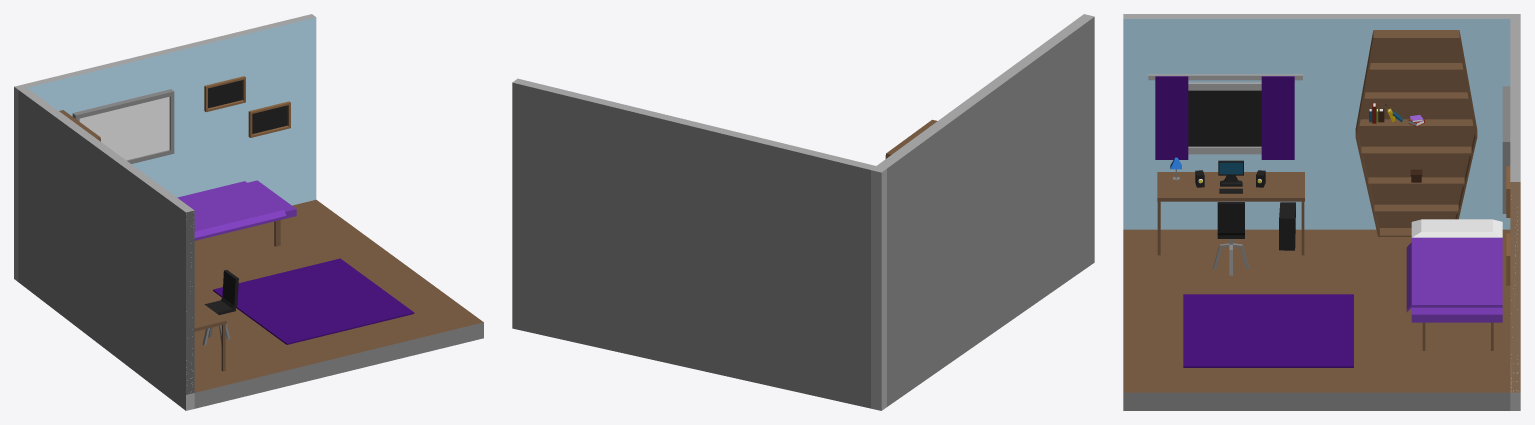
Rendered from Room_005.glb.
3 renders of one model, left to right at view 1: azimuth 30°, elevation 25°; view 2: azimuth 150°, elevation 25°; view 3: azimuth 270°, elevation 25°, orthographic. The views are drawn at different scales.
Parts seen in each view (by area): view 1: Cube; view 2: Cube; view 3: Cube.
Boxes of the visible parts, left/top/right/bottom form: Cube: left=14, top=14, right=483, bottom=410; Cube: left=512, top=14, right=1094, bottom=410; Cube: left=1123, top=14, right=1520, bottom=410.
Size of the model in its own units: 2 by 1.27 by 2.
1 material, 1 textured.
